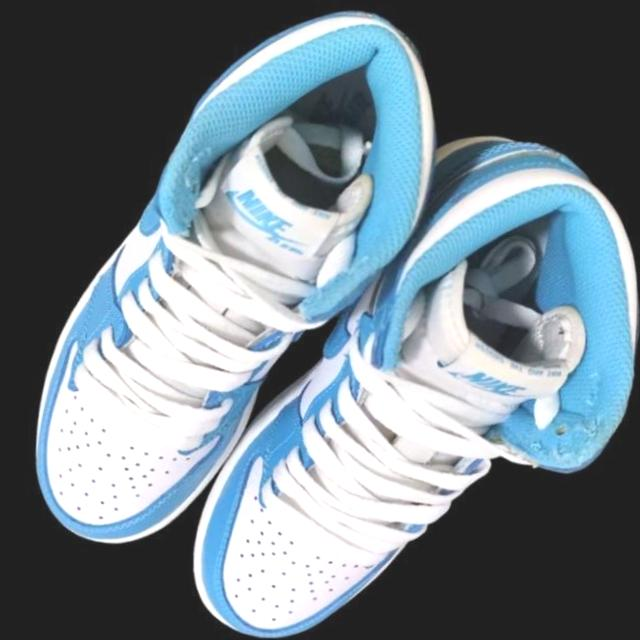nike_original_jordan: (16, 69, 640, 640), (0, 0, 559, 585)
